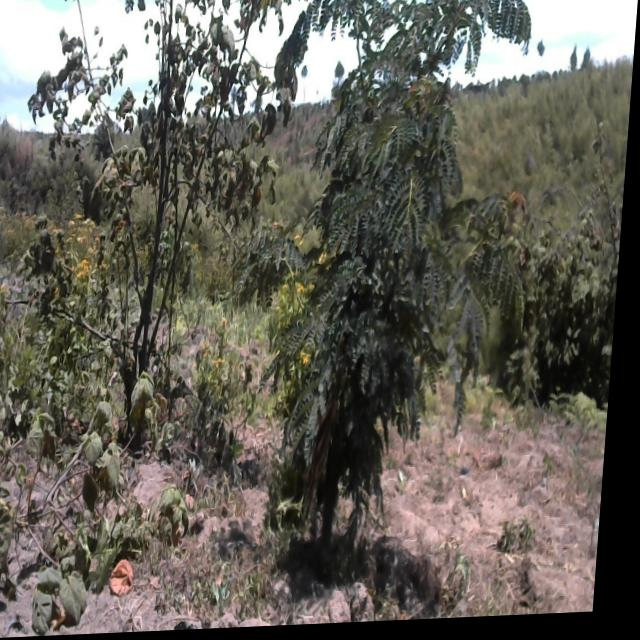Leucaena leucophala: (271, 0, 566, 575)
